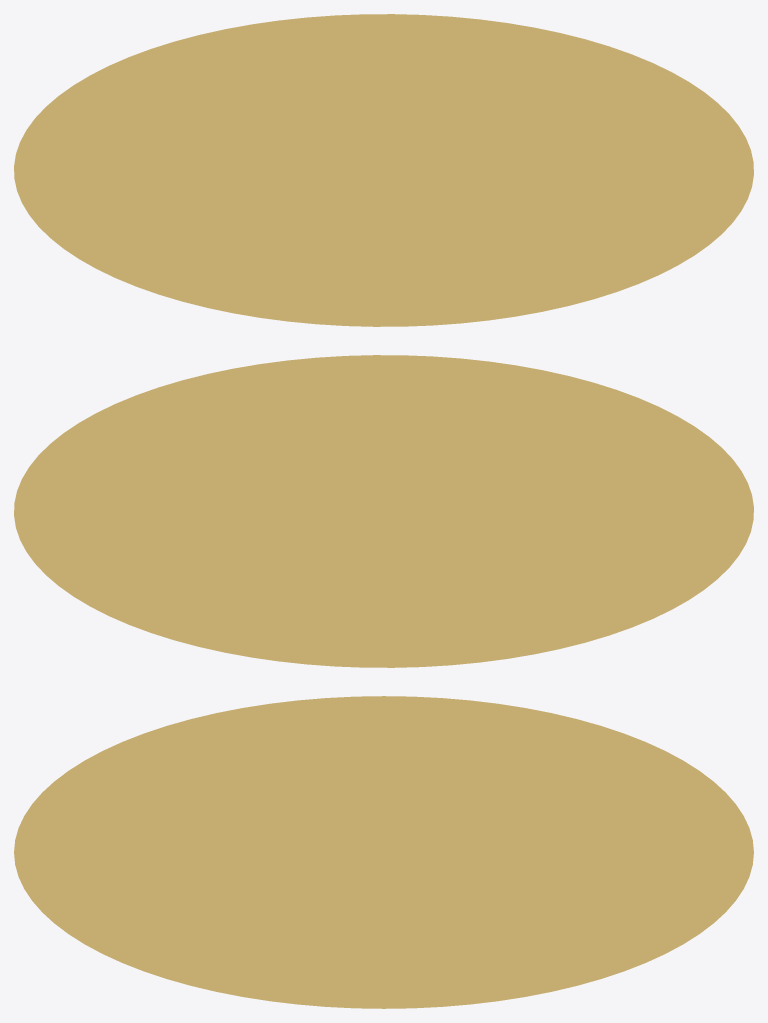
The model's file is sand.fbx.
The picture shows the model from 3 angles, top to bottom: view 1: azimuth 30°, elevation 25°; view 2: azimuth 150°, elevation 25°; view 3: azimuth 270°, elevation 25°; orthographic projection.
Parts seen in each view (by area): view 1: Plane; view 2: Plane; view 3: Plane.
Part boxes in pixels (left/top/right/bottom): Plane: left=14, top=14, right=753, bottom=326; Plane: left=14, top=355, right=753, bottom=667; Plane: left=14, top=696, right=753, bottom=1008.
Size of the model in its own units: 825 by 0.000134 by 825.
